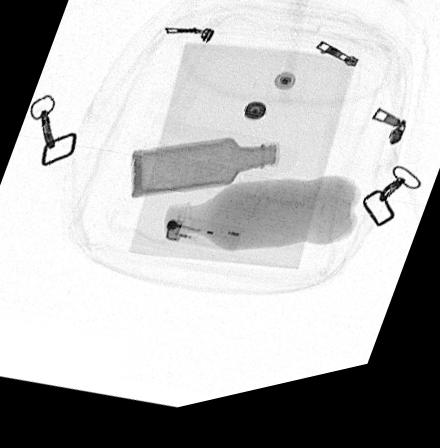Lighter: (165, 222, 243, 262)
